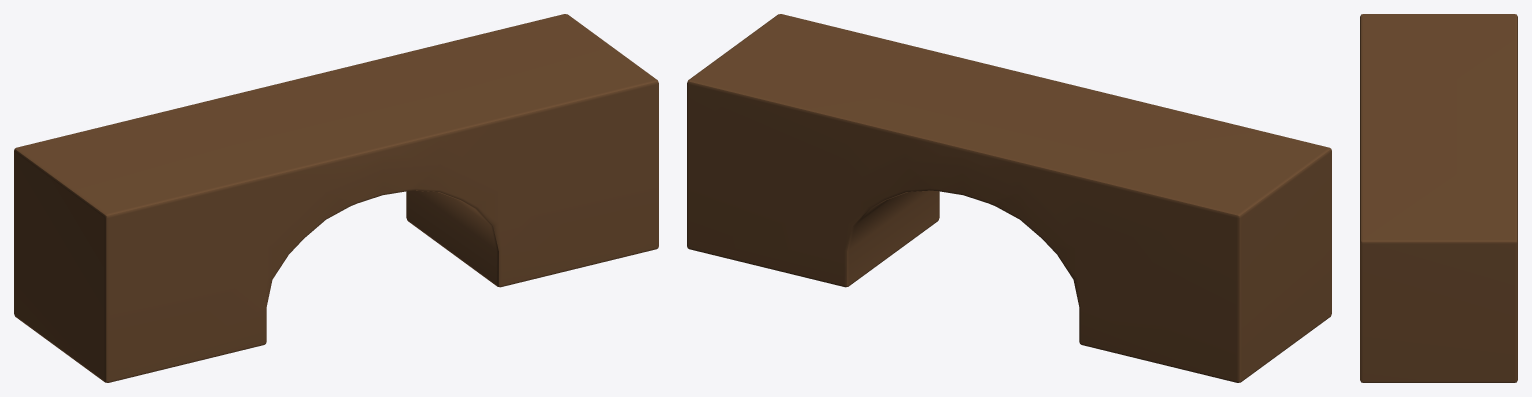
The model's file is sm_bridgeblock.fbx.
3 views of the same model, side by side, from view 1: azimuth 30°, elevation 25°; view 2: azimuth 150°, elevation 25°; view 3: azimuth 270°, elevation 25° (orthographic). The views are drawn at different scales.
Parts seen in each view (by area): view 1: bridgeblock_low; view 2: bridgeblock_low; view 3: bridgeblock_low.
Boxes of the visible parts, box(x1,y1,x2,y2) form: bridgeblock_low: box(14, 14, 658, 382); bridgeblock_low: box(687, 14, 1331, 382); bridgeblock_low: box(1360, 14, 1517, 382).
Bounding box in the file's own units: 130 × 37.85 × 37.85.
